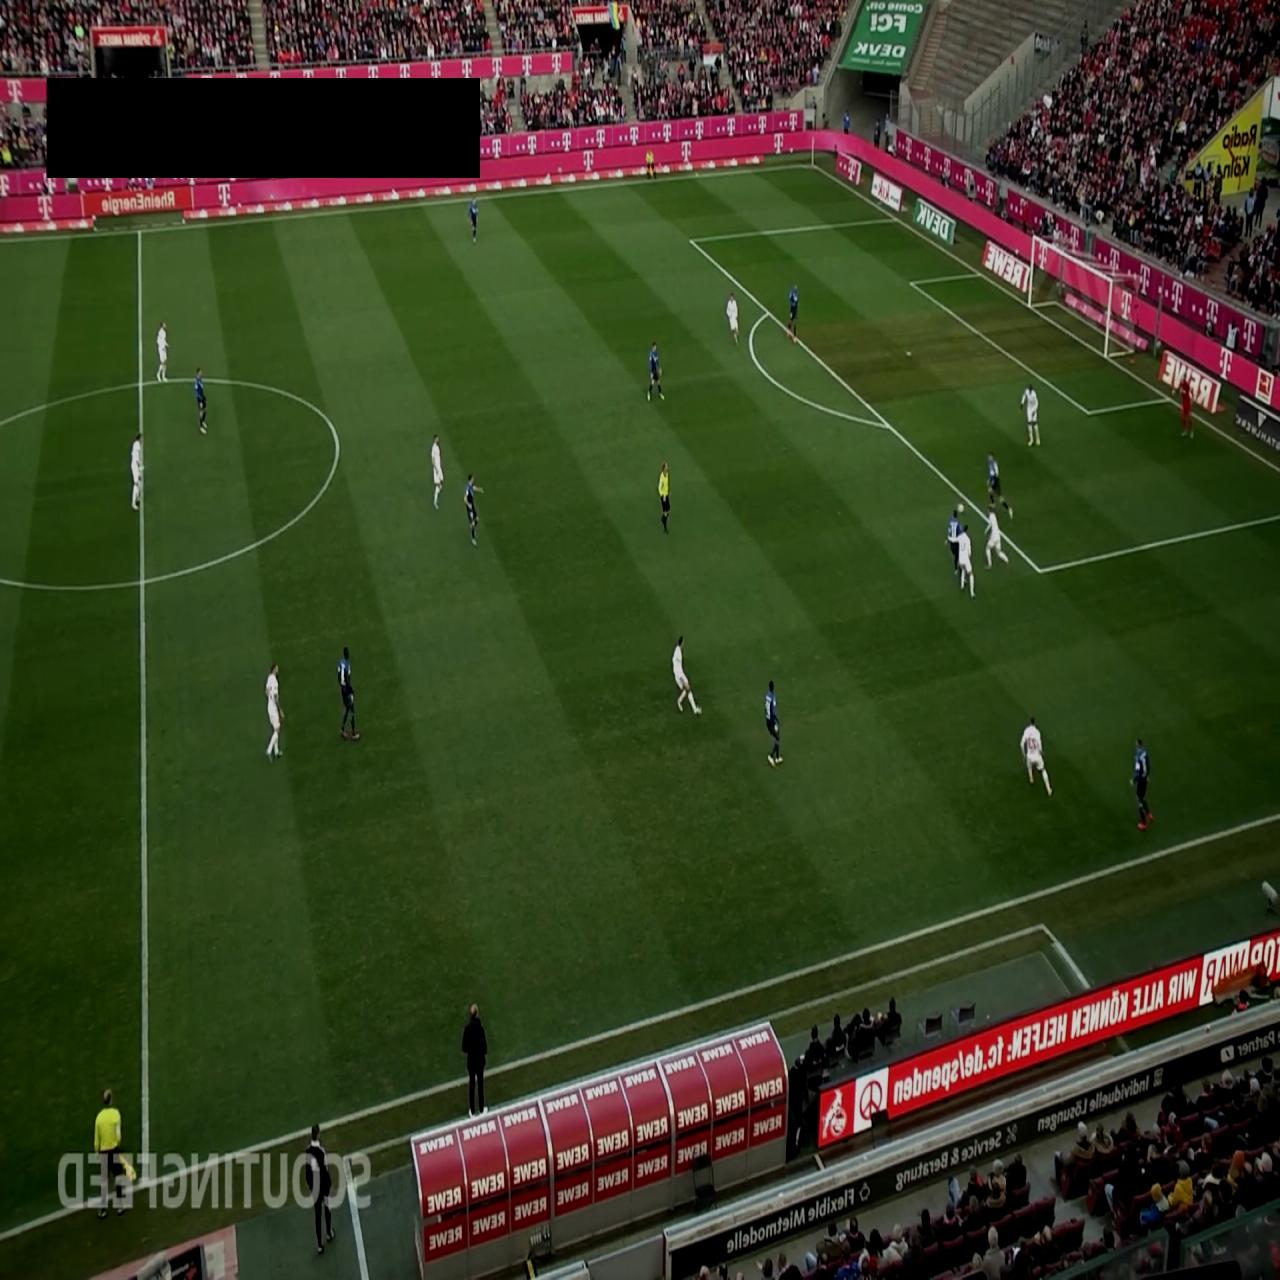ball: (958, 503, 964, 515)
goalkeeper: (1180, 377, 1193, 438)
player: (1019, 712, 1053, 798), (672, 634, 702, 715), (337, 644, 361, 740), (1130, 736, 1154, 830), (264, 662, 284, 764), (987, 452, 1014, 520), (984, 501, 1010, 569), (764, 679, 783, 766), (463, 472, 484, 546), (957, 522, 976, 598), (1020, 384, 1041, 448), (945, 504, 964, 574), (646, 340, 665, 402), (130, 431, 143, 511), (431, 432, 444, 510), (194, 366, 208, 435), (786, 283, 799, 345), (156, 320, 169, 382), (726, 292, 739, 346), (467, 196, 479, 243)
referee: (95, 1087, 126, 1219), (657, 461, 670, 533), (644, 145, 656, 185)
